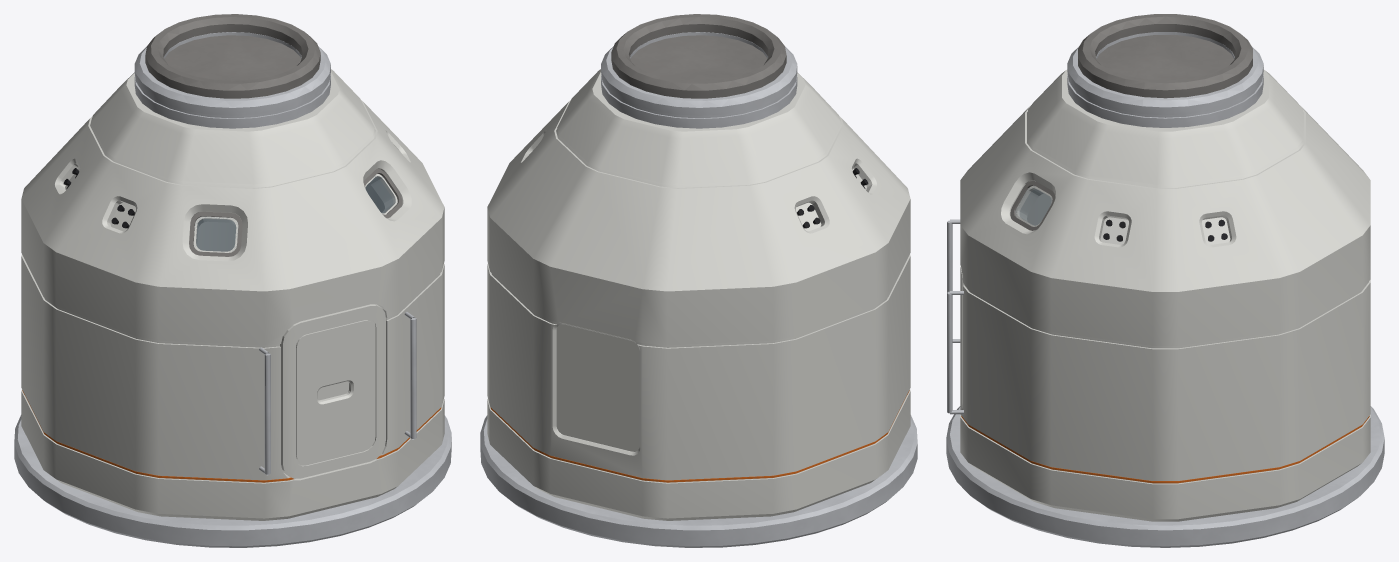
The model's file is ax_cmd_04_mav_ascent_cabin.glb.
The picture shows the model from 3 angles, left to right: view 1: azimuth 30°, elevation 25°; view 2: azimuth 150°, elevation 25°; view 3: azimuth 270°, elevation 25°; orthographic projection.
Parts seen in each view (by area): view 1: shell, hatch_door_1, interface_ring, docking_ring, docking_port, docking_hatch, window_glass, handrails, window_frames, orange_stripes; view 2: shell, interface_ring, docking_ring, docking_port, docking_hatch, orange_stripes; view 3: shell, interface_ring, docking_ring, docking_port, docking_hatch, handrails, orange_stripes, window_glass, window_frames.
Part boxes in pixels (left/top/right/bottom): shell: left=21, top=69, right=444, bottom=520; hatch_door_1: left=280, top=304, right=385, bottom=478; interface_ring: left=14, top=415, right=451, bottom=547; docking_ring: left=134, top=32, right=330, bottom=128; docking_port: left=145, top=14, right=320, bottom=98; docking_hatch: left=164, top=35, right=301, bottom=80; window_glass: left=195, top=176, right=395, bottom=251; handrails: left=259, top=312, right=416, bottom=475; window_frames: left=189, top=168, right=402, bottom=256; orange_stripes: left=22, top=390, right=441, bottom=482; shell: left=487, top=69, right=910, bottom=520; interface_ring: left=480, top=415, right=917, bottom=547; docking_ring: left=601, top=32, right=797, bottom=128; docking_port: left=611, top=14, right=786, bottom=98; docking_hatch: left=630, top=35, right=767, bottom=80; orange_stripes: left=490, top=390, right=909, bottom=482; shell: left=960, top=69, right=1370, bottom=521; interface_ring: left=946, top=406, right=1384, bottom=547; docking_ring: left=1067, top=32, right=1263, bottom=127; docking_port: left=1078, top=14, right=1252, bottom=98; docking_hatch: left=1096, top=35, right=1234, bottom=80; handrails: left=947, top=219, right=963, bottom=414; orange_stripes: left=961, top=416, right=1369, bottom=483; window_glass: left=1016, top=186, right=1051, bottom=225; window_frames: left=1010, top=180, right=1055, bottom=230.
Bounding box in the file's own units: 2.5 × 2.57 × 2.5.
Materials: 7 (3 with a texture image).
